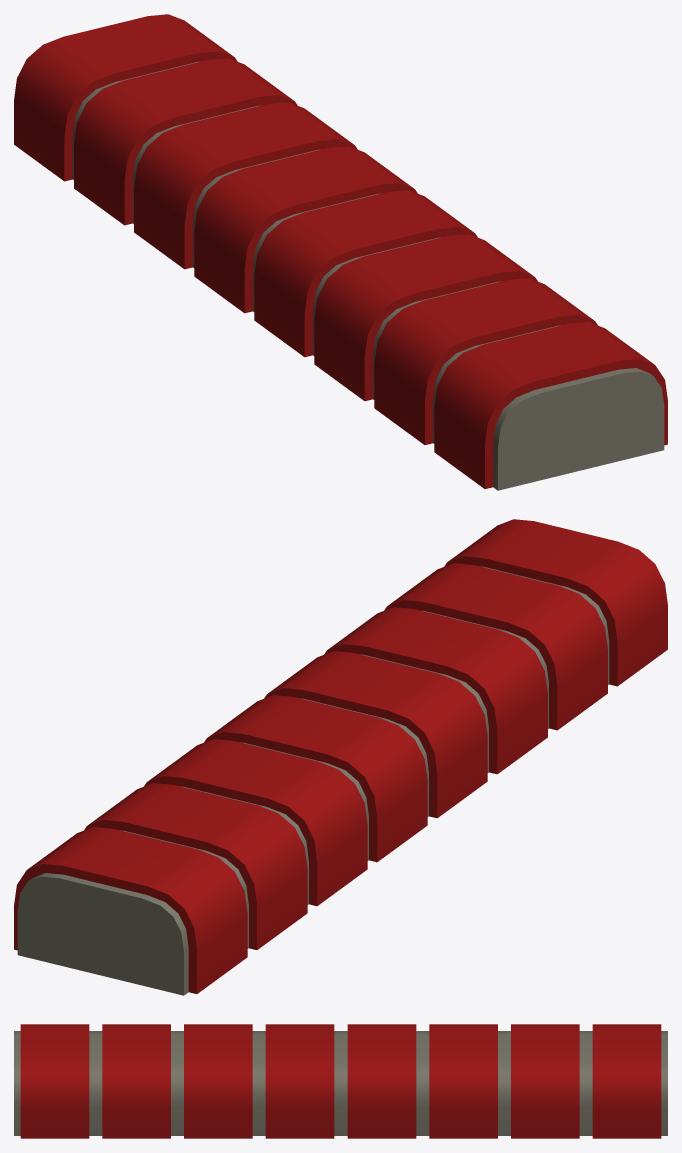
The model's file is Edge_Brick_straight_100.fbx.
The picture shows the model from 3 angles, top to bottom: view 1: azimuth 30°, elevation 25°; view 2: azimuth 150°, elevation 25°; view 3: azimuth 270°, elevation 25°; orthographic projection. The views are drawn at different scales.
Visible parts, largest first — view 1: Edge_Brick_straight_100; view 2: Edge_Brick_straight_100; view 3: Edge_Brick_straight_100.
Boxes of the visible parts, bbox=[...] form: Edge_Brick_straight_100: bbox=[14, 14, 667, 490]; Edge_Brick_straight_100: bbox=[14, 519, 667, 995]; Edge_Brick_straight_100: bbox=[14, 1024, 667, 1138].
Size of the model in its own units: 22 by 11 by 100.
